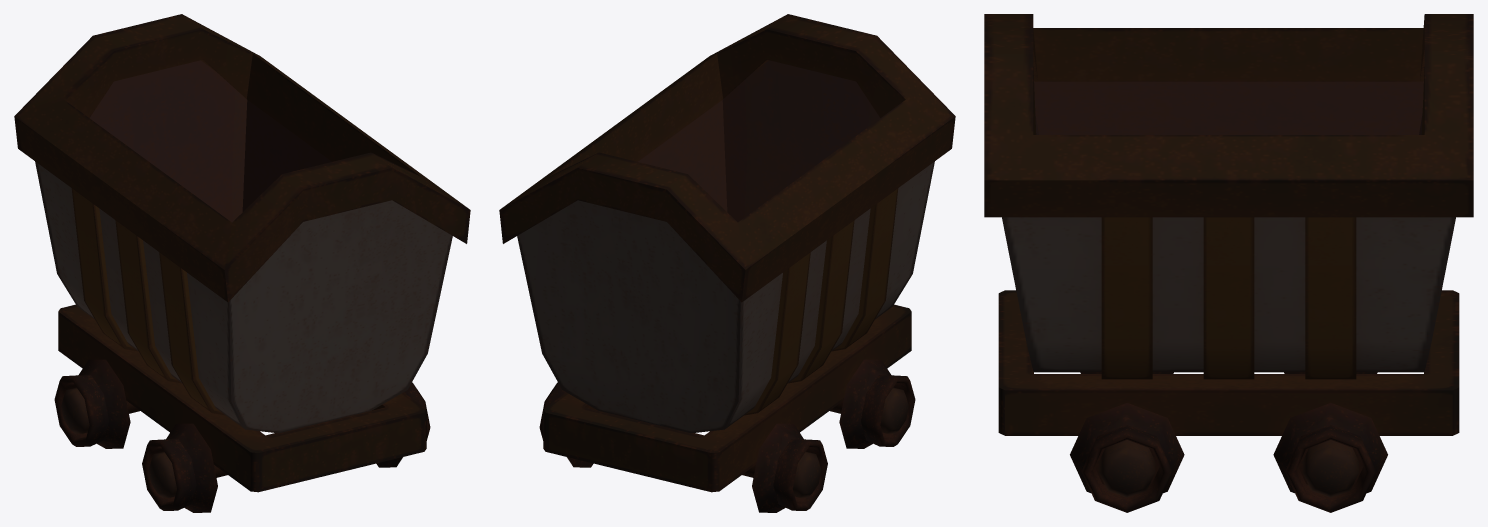
Rendered from Minecart V2.fbx.
3 views of the same model, side by side, from view 1: azimuth 30°, elevation 25°; view 2: azimuth 150°, elevation 25°; view 3: azimuth 270°, elevation 25° (orthographic). The views are drawn at different scales.
Parts seen in each view (by area): view 1: Body_Model_2, Lower_Rim, Decortive_metal, Wheel_outer_1 (×3), Wheel_center_1 (×2); view 2: Body_Model_2, Lower_Rim, Decortive_metal, Wheel_outer_1 (×3), Wheel_center_1 (×2); view 3: Body_Model_2, Lower_Rim, Decortive_metal, Wheel_outer_1 (×2), Wheel_center_1 (×2).
Part boxes in pixels (x1,y1,x2,y2): Body_Model_2: (14, 14, 470, 433); Lower_Rim: (58, 304, 426, 492); Decortive_metal: (71, 188, 225, 415); Wheel_outer_1 (×3): (54, 359, 430, 512); Wheel_center_1 (×2): (61, 387, 176, 497); Body_Model_2: (499, 14, 955, 433); Lower_Rim: (543, 304, 911, 492); Decortive_metal: (744, 188, 898, 415); Wheel_outer_1 (×3): (539, 359, 915, 512); Wheel_center_1 (×2): (793, 387, 908, 497); Body_Model_2: (984, 14, 1473, 372); Lower_Rim: (998, 290, 1459, 435); Decortive_metal: (1101, 217, 1356, 379); Wheel_outer_1 (×2): (1070, 403, 1387, 512); Wheel_center_1 (×2): (1099, 440, 1358, 497).
Size of the model in its own units: 1.33 by 1.73 by 1.85.
1 material, 1 textured.
